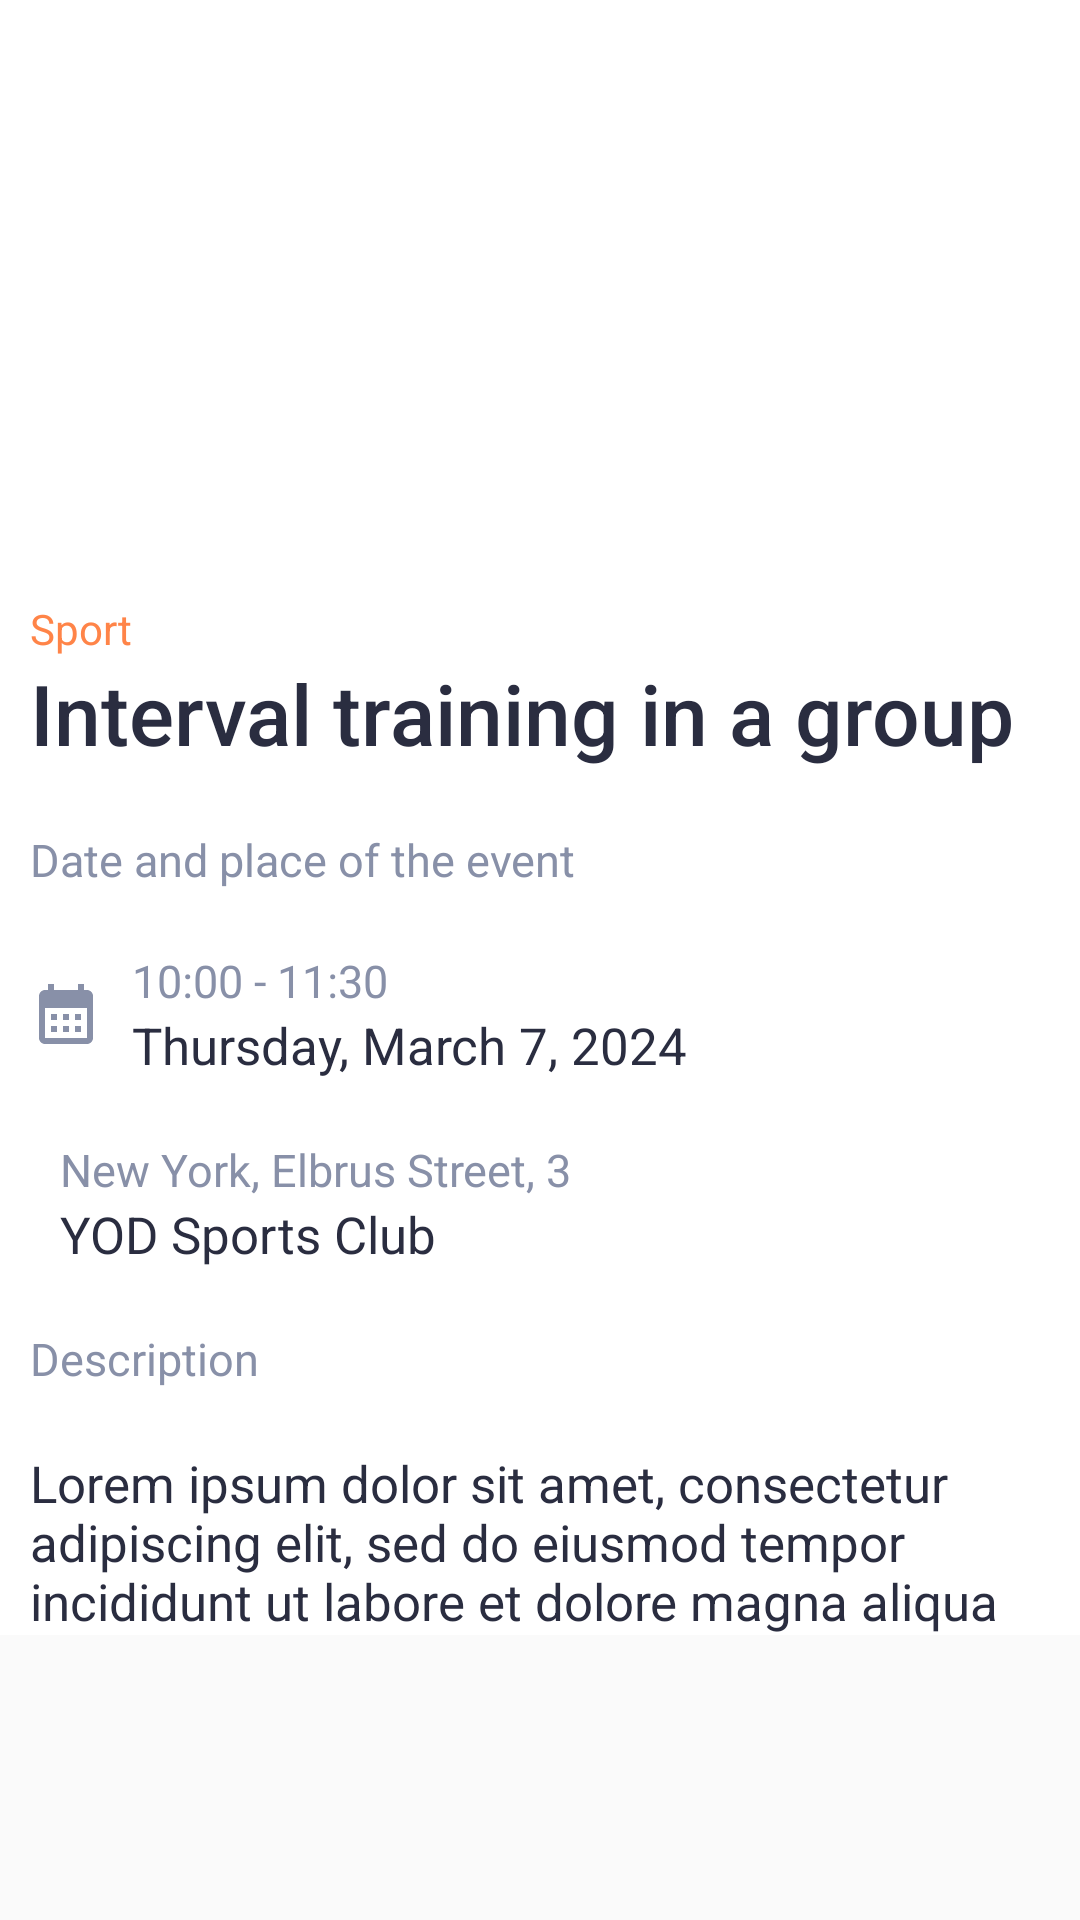

Named icons in this screenshot (1080px×1920px) and their centers, (x=x, y=y):
calendar: (x=66, y=1014)
